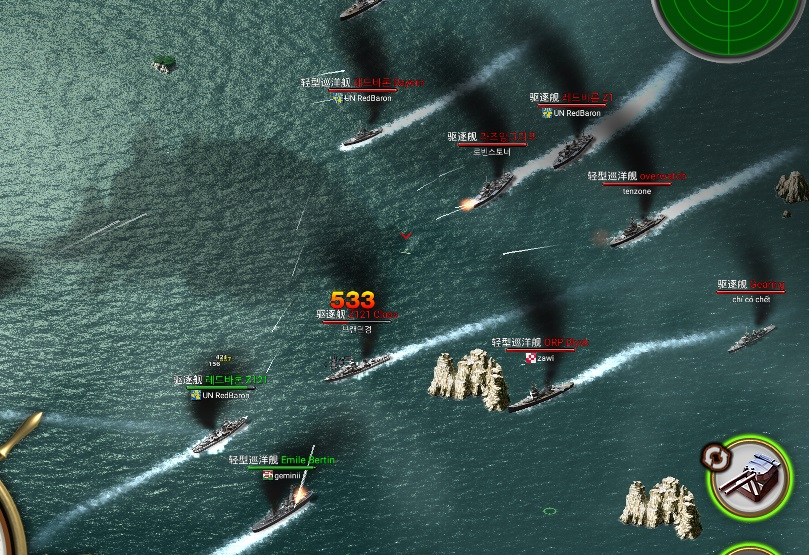ship: (251, 485, 319, 534), (327, 353, 394, 387), (510, 378, 579, 411), (193, 415, 250, 452), (610, 211, 671, 245), (470, 169, 516, 208), (554, 134, 596, 170), (729, 323, 776, 352), (342, 127, 390, 149)
